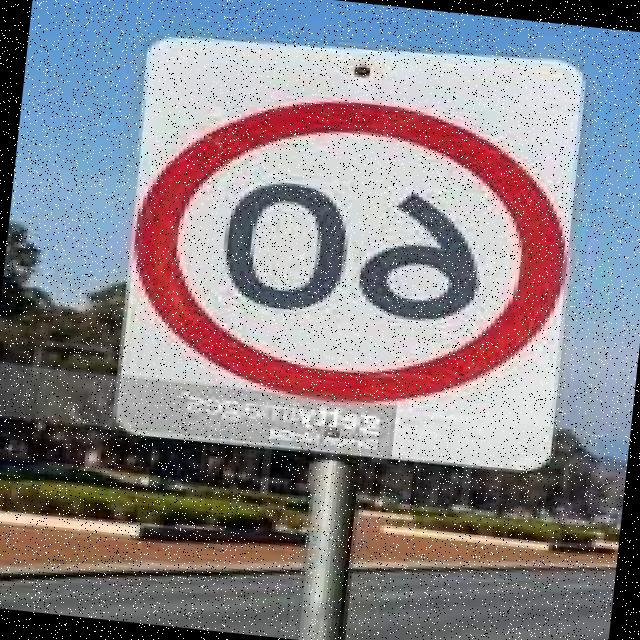speed_limit_60: (102, 63, 588, 426)
